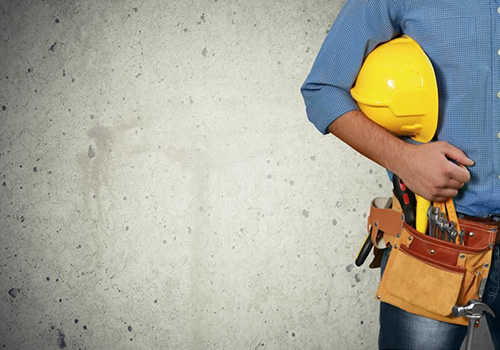hard hat: (349, 36, 440, 146)
